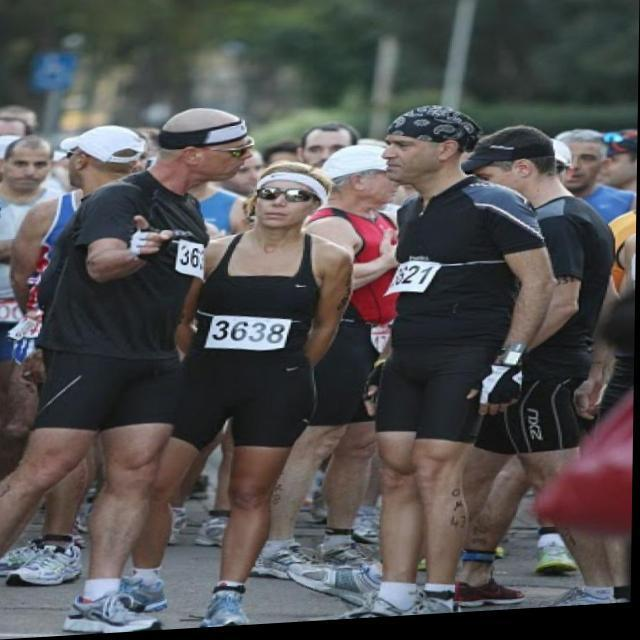dorsal: (208, 312, 294, 358), (178, 238, 220, 288), (388, 263, 438, 300)
